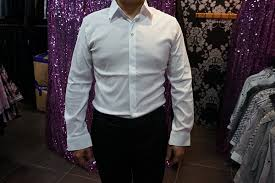F_shirt: (63, 1, 194, 149)
